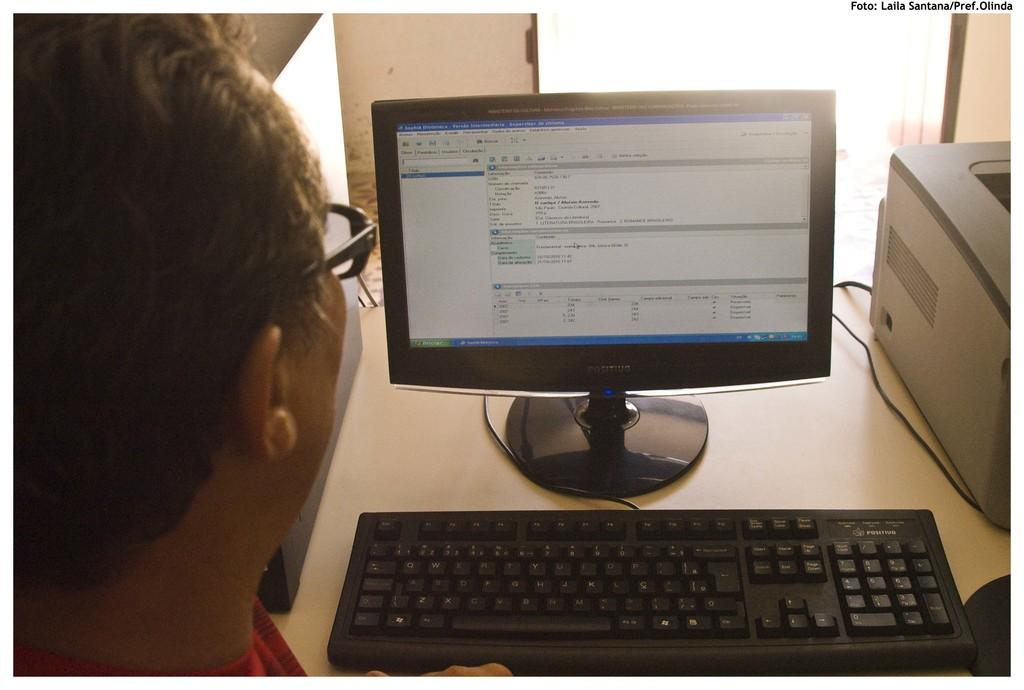Computer-keyboard: (327, 507, 981, 675)
Computer-monitor: (362, 83, 840, 502)
